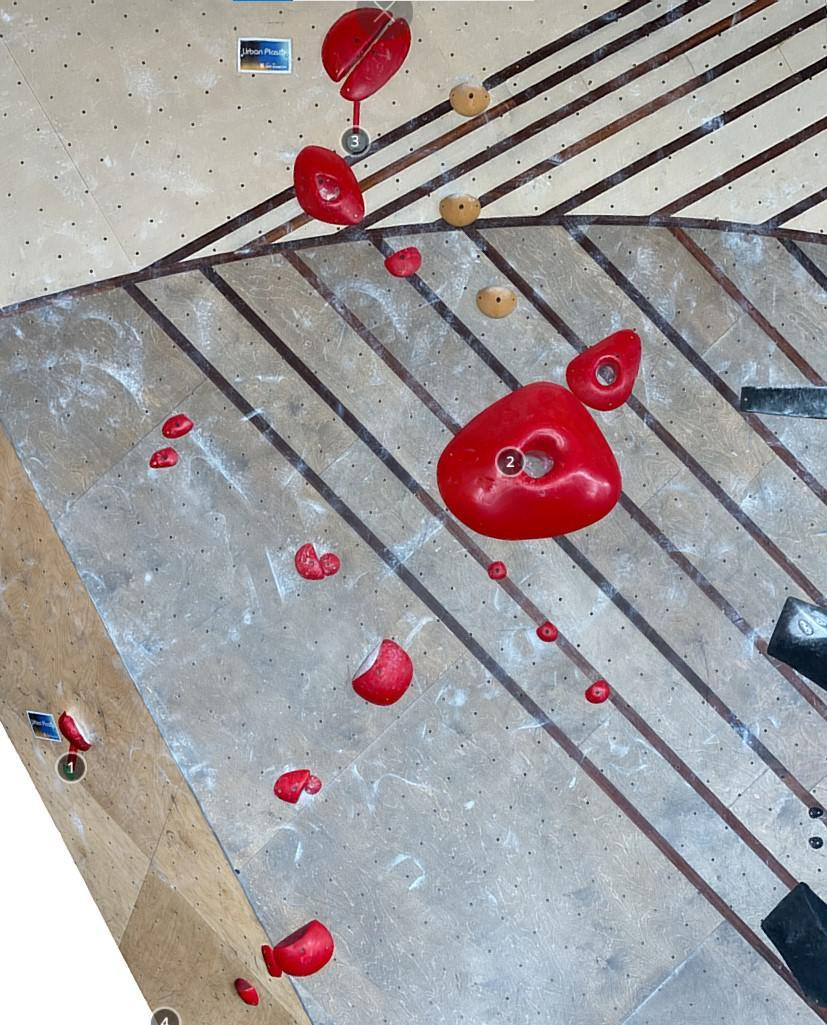hold: (437, 381, 622, 540), (761, 882, 827, 1008), (565, 328, 641, 411), (340, 17, 411, 101), (767, 596, 827, 691), (294, 144, 364, 225), (322, 8, 393, 81), (352, 638, 413, 706), (273, 919, 334, 976), (739, 385, 827, 420), (439, 192, 481, 227), (449, 82, 491, 117), (476, 285, 517, 318), (59, 711, 92, 751), (273, 769, 310, 802), (384, 246, 421, 277), (294, 543, 324, 580), (162, 414, 194, 439), (261, 945, 282, 977), (235, 978, 258, 1005), (585, 679, 610, 703), (150, 447, 178, 468), (320, 553, 341, 576), (537, 621, 558, 641), (488, 560, 507, 580), (305, 776, 322, 793), (799, 619, 814, 636), (811, 612, 827, 627), (808, 836, 823, 848), (809, 807, 823, 818)
